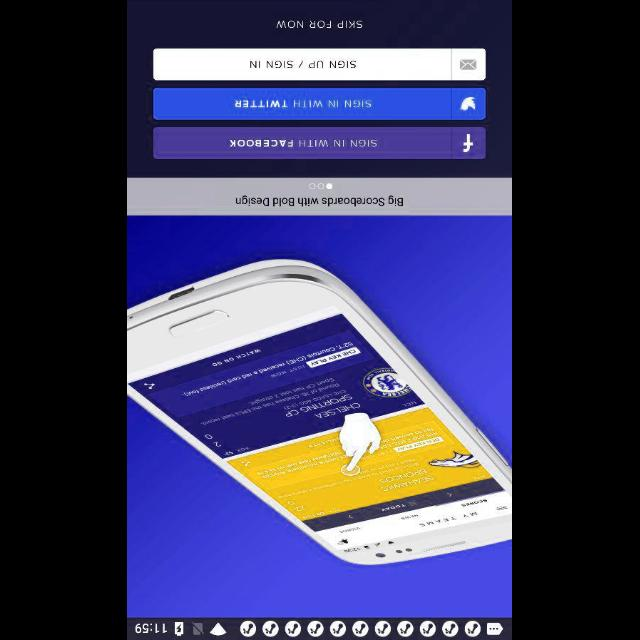image: (128, 216, 512, 616)
pageindicator: (309, 182, 333, 190)
text: (236, 195, 404, 207), (276, 20, 364, 28)
textbutton: (154, 127, 486, 159), (154, 87, 486, 119), (154, 48, 486, 80)
uppertaskbar: (128, 617, 512, 639)
